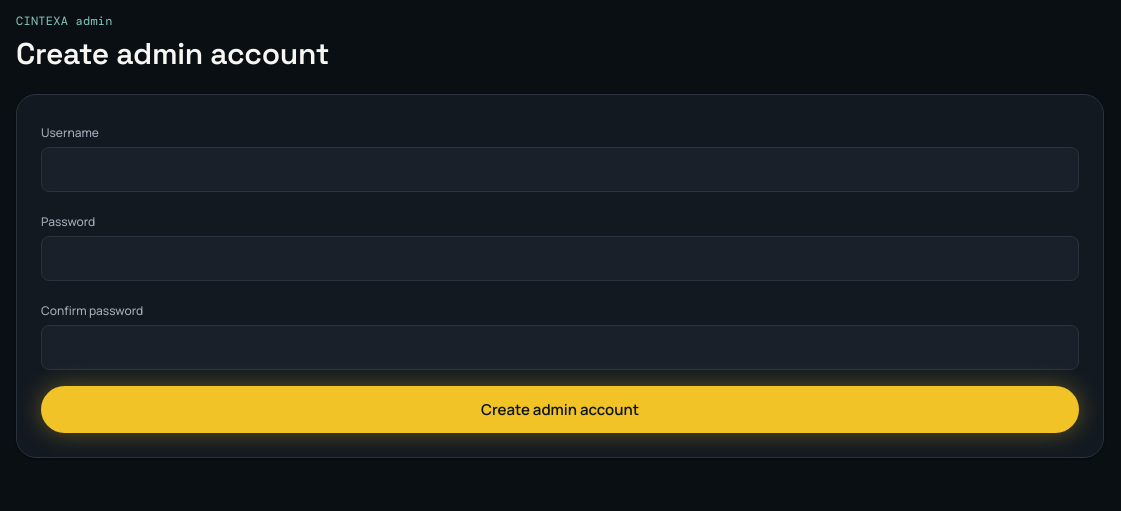
Test: one-time links › setup link: shows the server's password rule
Type "kyle.admin" into the field labelled "Username" at (560, 169), box [41, 146, 1079, 192]
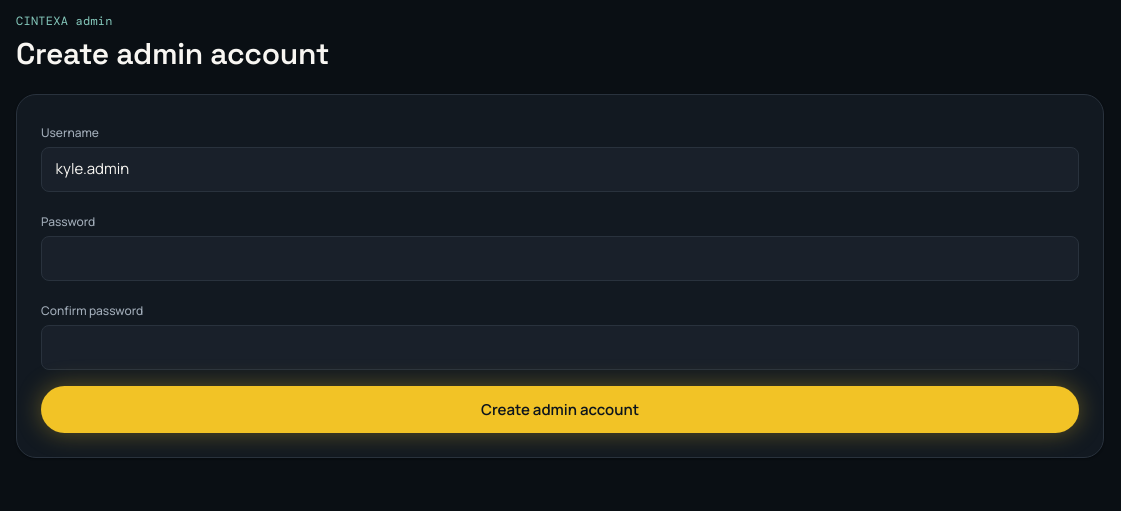
Type "short" into the password field labelled "Password" at (560, 258), box [41, 236, 1079, 281]
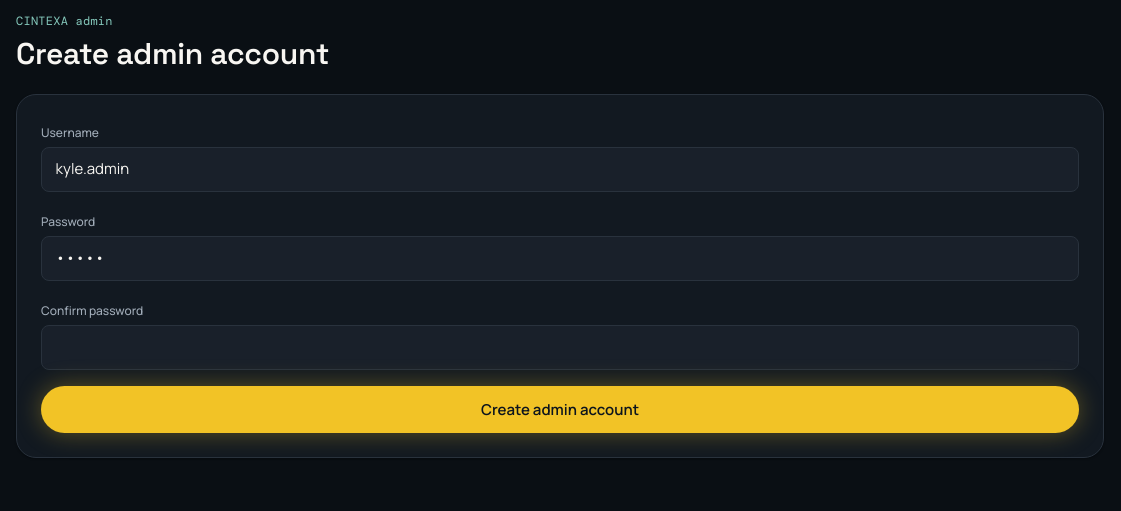
Type "short" into the password field labelled "Confirm password" at (560, 348), box [41, 325, 1079, 370]
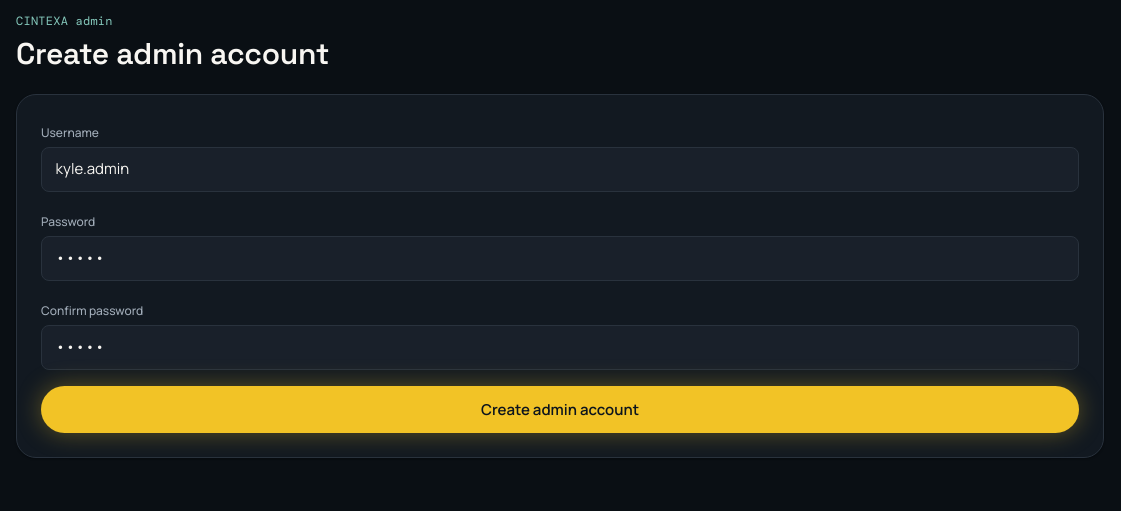
Click the button "Create admin account" at (560, 410), box [41, 386, 1079, 433]
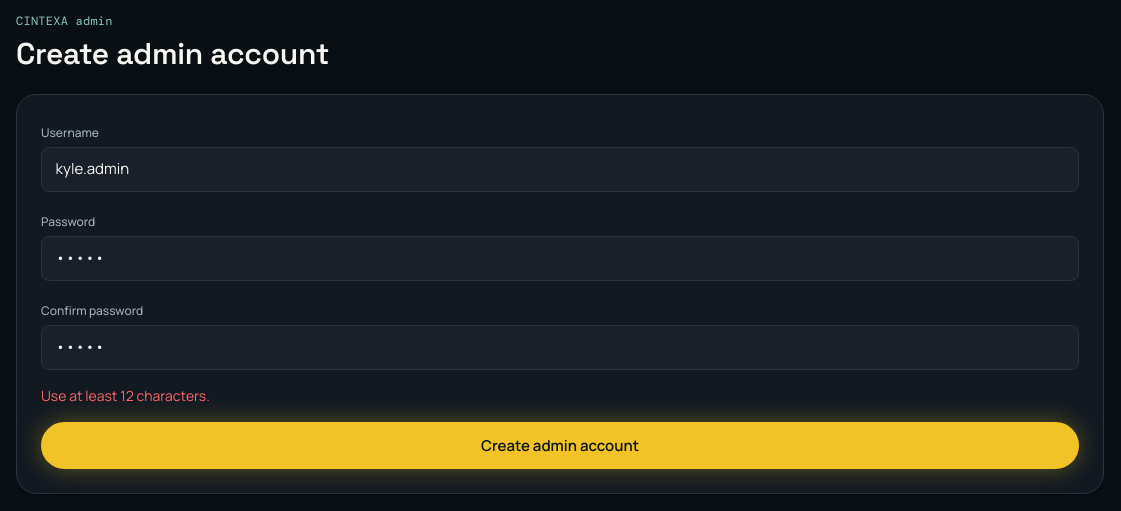
expect the message reads "Use at least 12 characters.": met, box [41, 386, 210, 405]
